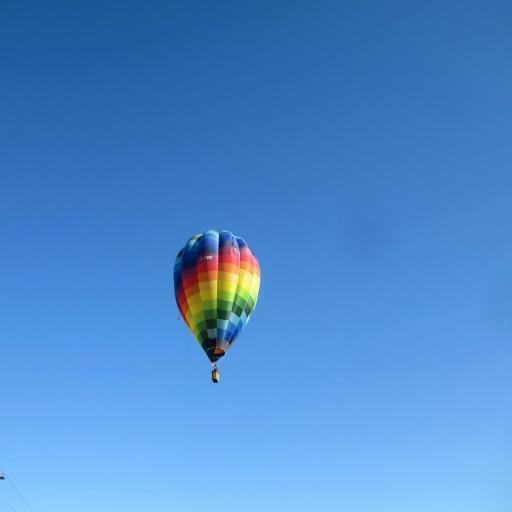hot air ballon: (173, 229, 260, 386)
